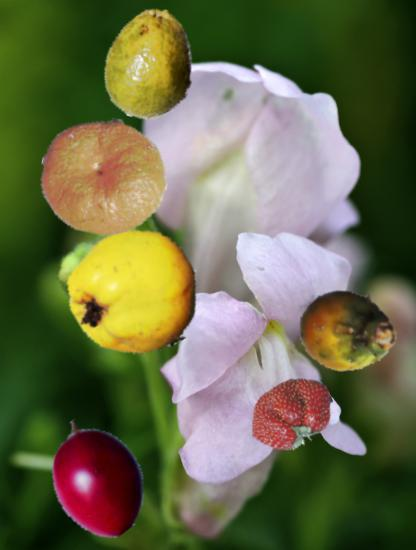Cactus: (300, 286, 392, 378)
Guava: (95, 8, 208, 121)
Mandarine: (40, 112, 169, 241)
Quince: (69, 227, 201, 359)
Strawberry: (247, 371, 335, 459)
Tamarillo: (35, 418, 157, 540)
